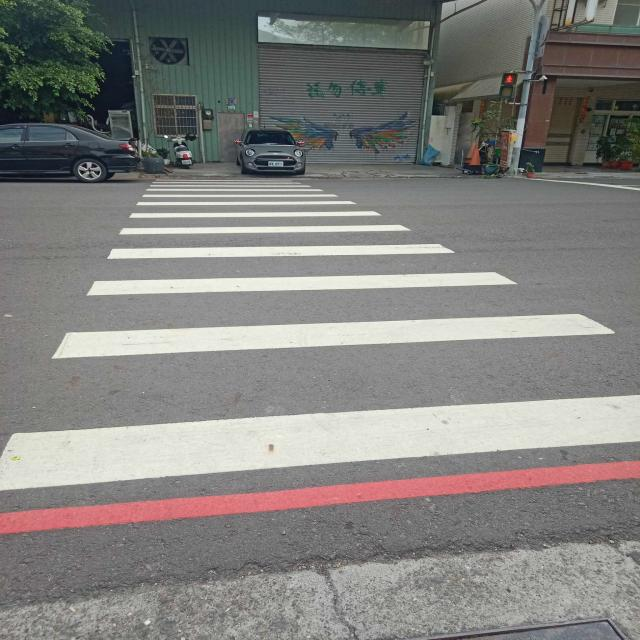zebra crossing: (0, 177, 640, 493)
